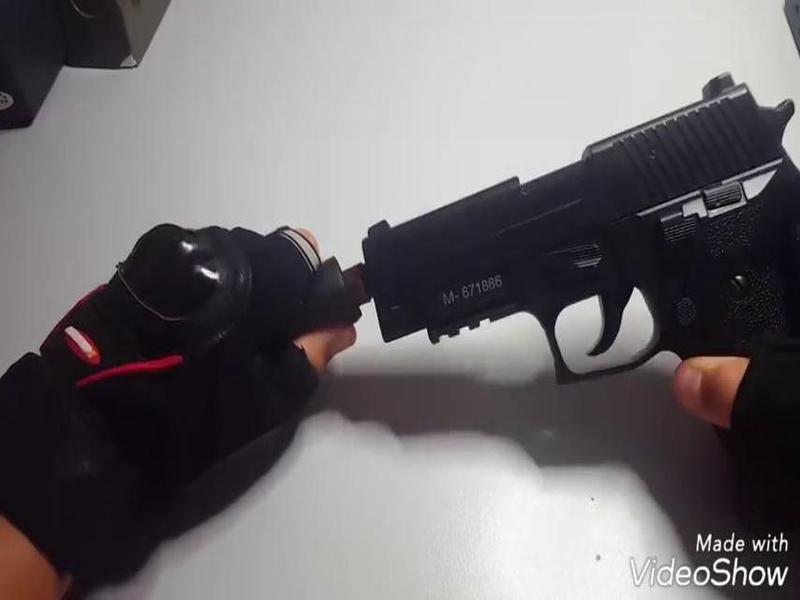Pistola: (331, 67, 783, 356)
